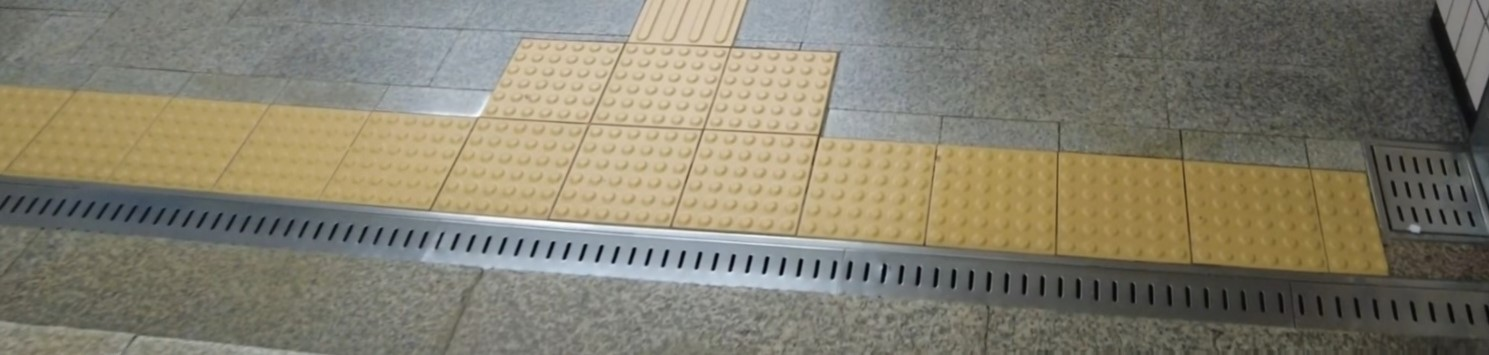warningBlock: (1182, 155, 1327, 275), (1053, 149, 1194, 261), (936, 144, 1065, 255), (471, 106, 592, 214), (694, 125, 811, 232), (820, 139, 936, 244), (358, 107, 470, 212), (576, 123, 700, 217), (257, 101, 377, 198), (170, 103, 277, 209), (63, 83, 167, 192), (494, 37, 618, 115), (1317, 171, 1398, 284), (614, 47, 724, 121), (726, 64, 816, 137)
